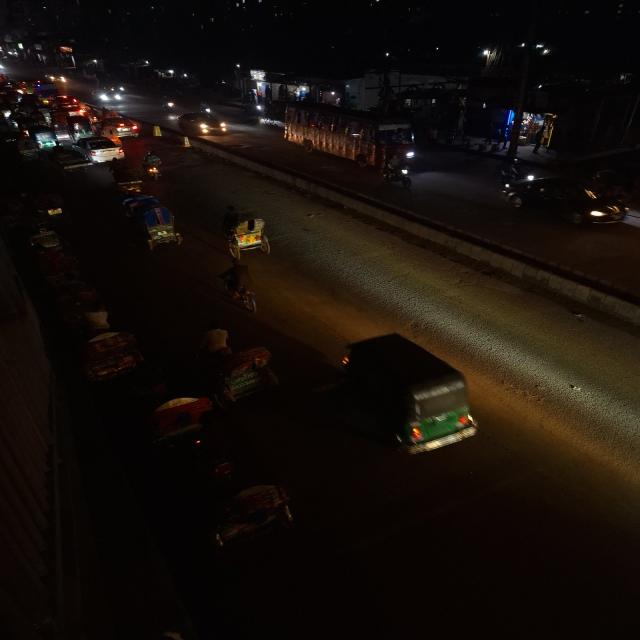bicycle: (216, 260, 264, 314), (216, 260, 263, 314)
bus: (274, 101, 423, 168)
car: (503, 176, 633, 228), (175, 110, 232, 136), (73, 136, 126, 162), (100, 115, 142, 138), (49, 94, 81, 111)
cng: (333, 330, 488, 460), (25, 123, 58, 149), (65, 115, 94, 138)
motorcycle: (492, 162, 530, 195), (376, 157, 414, 189), (140, 150, 166, 181), (160, 96, 179, 113), (148, 123, 166, 139), (197, 100, 214, 114)
rickshaw: (184, 474, 301, 554), (186, 323, 283, 409), (56, 308, 148, 388), (120, 191, 188, 253), (216, 201, 280, 261), (28, 234, 82, 282), (22, 188, 68, 220), (110, 167, 146, 196)
